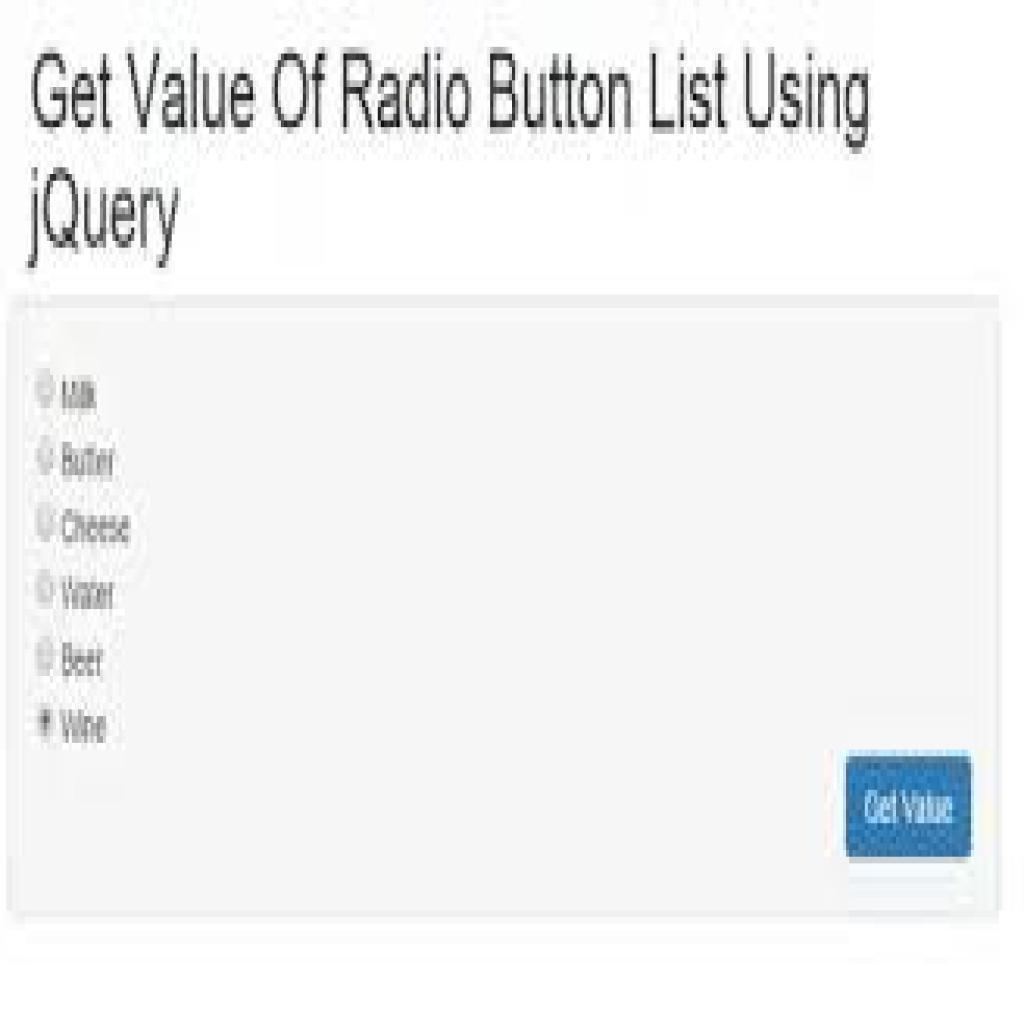button: (848, 753, 975, 861)
label: (60, 508, 135, 547), (61, 443, 123, 484), (57, 706, 113, 749), (62, 575, 119, 613), (59, 642, 109, 679), (61, 376, 101, 414)
radio: (34, 363, 60, 412), (32, 698, 58, 746), (34, 631, 58, 680), (33, 567, 58, 613), (32, 501, 58, 544), (35, 437, 59, 480)
